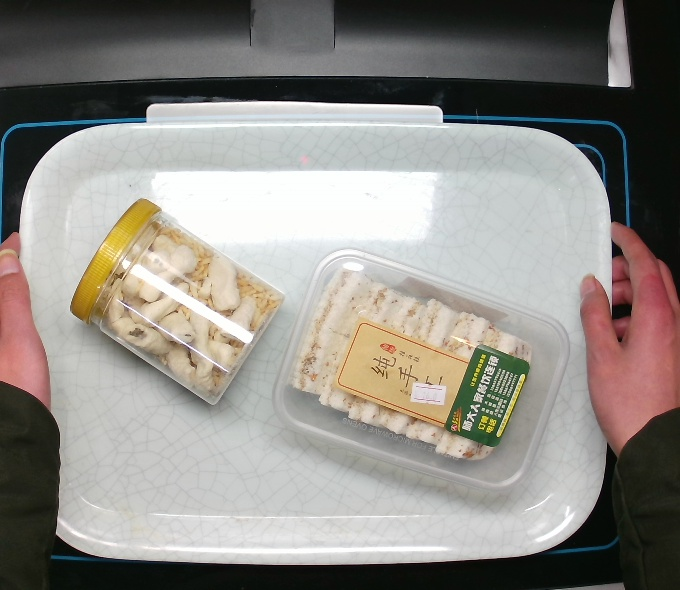wcq-GuiHuaGao: (269, 245, 578, 496)
wcq-MaiYaTang: (66, 196, 291, 409)
